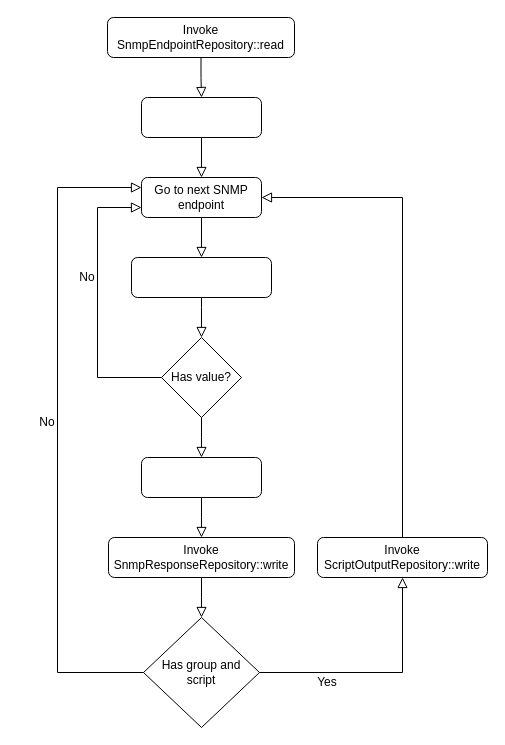
The diagram is 505 pixels wide and 745 high, and some of its shapes have lost their labels. Each missing label, with the box of its shape:
Filter only active SNMP endpoints: (140, 96, 262, 138)
Invoke GroupFinder::find: (140, 456, 262, 498)
Invoke SnmpClient::getSubtree: (130, 256, 272, 298)
